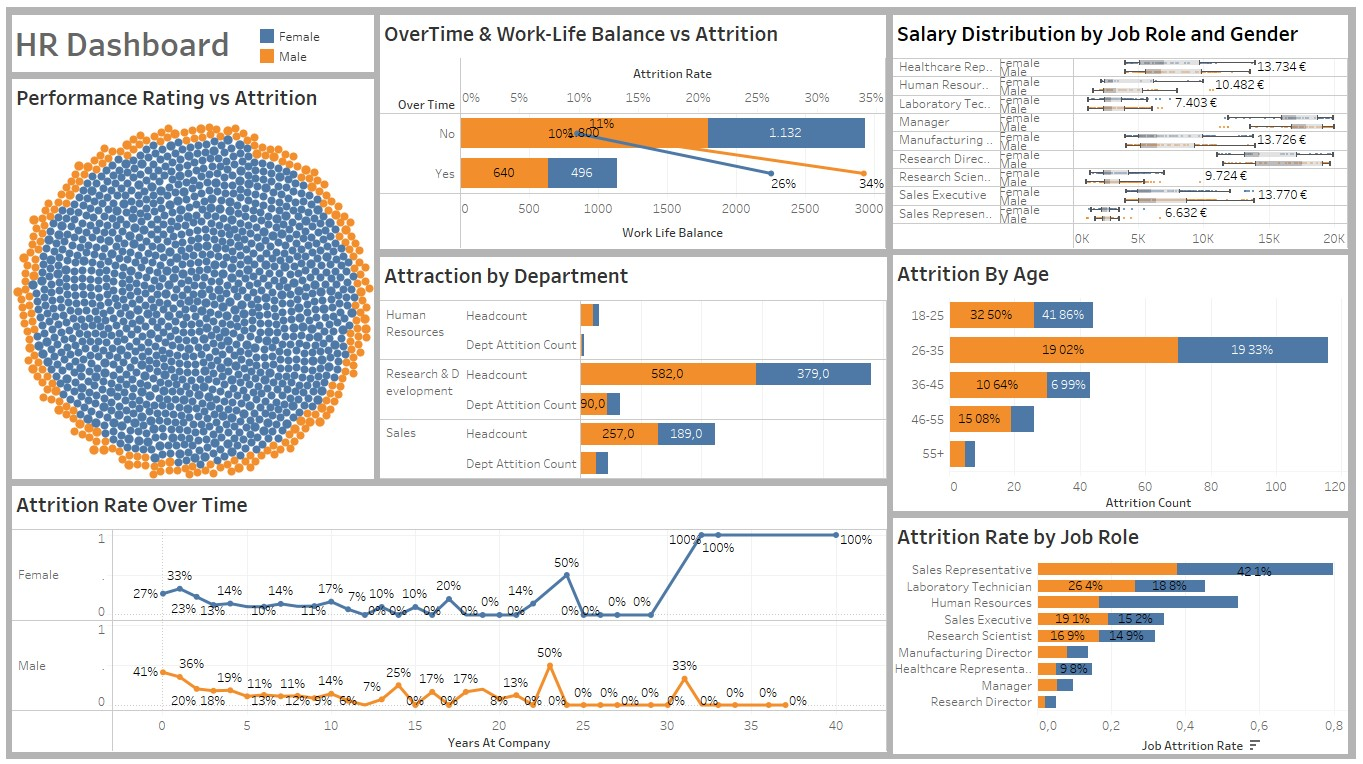

The page's visual inventory and layout, read from the dashboard file:
{"tool":"tableau","page":{"name":"Dashboard 2","canvas":[1366,768],"ordinal":1},"visuals":[{"type":"legend","title":"Attraction by Department","param":"[federated.1s1g39g11qsepi141ecet1q6ctph].[none:Gender:nk]","box":[259,9,97,58]},{"type":"text","box":[14,16,362,57]},{"type":"worksheet","title":"OverTime & Work-Life Balance vs Attrition","mark":"Automatic","rows":["OverTime"],"cols":["WorkLifeBalance","Calculation_939845003711119367"],"box":[382,16,506,234]},{"type":"worksheet","title":"Avg Salary Distribution by Job Role","mark":"Circle","rows":["JobRole","Gender"],"cols":["MonthlyIncome"],"box":[895,16,455,234]},{"type":"worksheet","title":"Performance Rating vs Attrition","mark":"Circle","box":[14,80,362,400]},{"type":"worksheet","title":"Attrition count by Age","mark":"Automatic","rows":["AgeGroup"],"cols":["Calculation_939845003711021062"],"box":[895,256,455,256]},{"type":"worksheet","title":"Attraction by Department","mark":"Automatic","rows":["Department"],"box":[382,258,507,222]},{"type":"worksheet","title":"Attrition Rate Over Time","mark":"Automatic","rows":["Gender","Calculation_939845003711119367"],"cols":["YearsAtCompany"],"box":[14,487,875,266]},{"type":"worksheet","title":"Attrition Rate by Job Role","mark":"Automatic","rows":["JobRole"],"cols":["Calculation_1055812694990442497"],"box":[895,519,455,236]}]}

Visuals, with their boxes in screenshot pixels (x1, y1, x2, y2), scaled from the page's 1366x768 canvas onto the 1363x764 screenshot:
"Attraction by Department" legend: (x1=258, y1=9, x2=355, y2=67)
text: (x1=14, y1=16, x2=375, y2=73)
"OverTime & Work-Life Balance vs Attrition" worksheet: (x1=381, y1=16, x2=886, y2=249)
"Avg Salary Distribution by Job Role" worksheet (Circle marks): (x1=893, y1=16, x2=1347, y2=249)
"Performance Rating vs Attrition" worksheet (Circle marks): (x1=14, y1=80, x2=375, y2=478)
"Attrition count by Age" worksheet: (x1=893, y1=255, x2=1347, y2=509)
"Attraction by Department" worksheet: (x1=381, y1=257, x2=887, y2=478)
"Attrition Rate Over Time" worksheet: (x1=14, y1=484, x2=887, y2=749)
"Attrition Rate by Job Role" worksheet: (x1=893, y1=516, x2=1347, y2=751)
